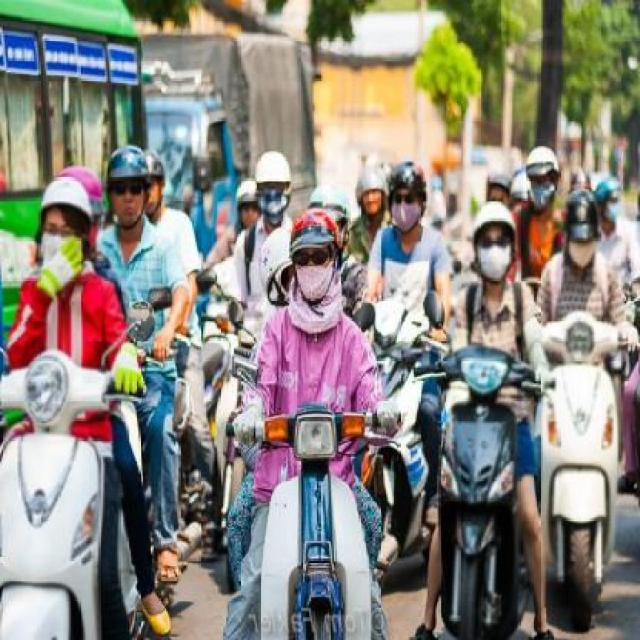helmet: (264, 209, 354, 308), (32, 161, 102, 274), (464, 202, 532, 300), (553, 185, 606, 272), (111, 147, 159, 228)
motorcycle: (237, 206, 415, 640), (0, 176, 142, 640), (432, 211, 566, 640), (547, 190, 640, 640)
